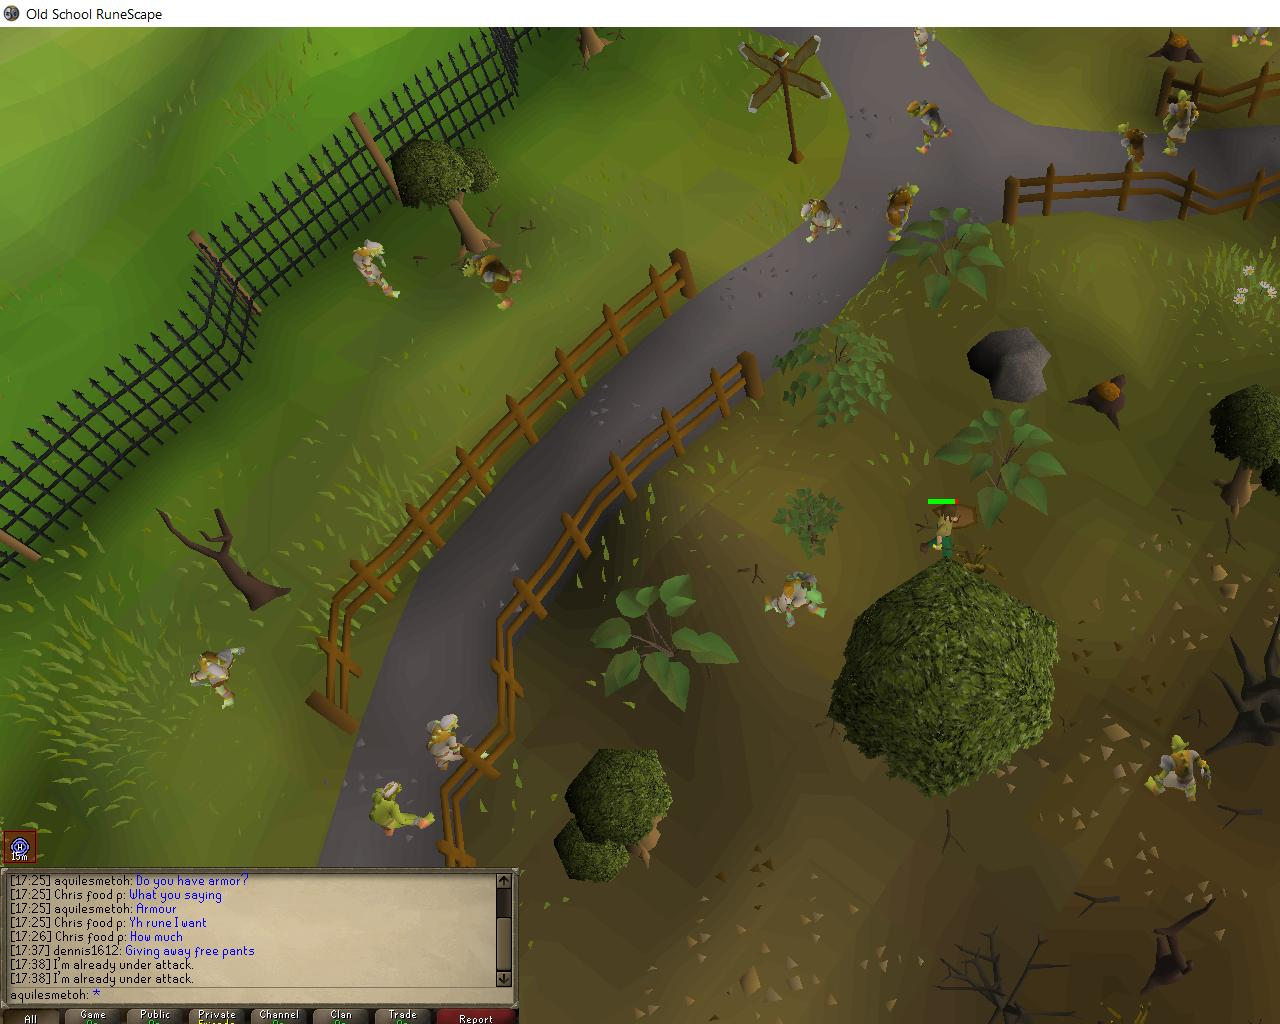Goblin: (1140, 734, 1216, 802), (363, 782, 439, 838), (184, 645, 246, 711), (423, 713, 490, 773), (762, 569, 829, 630), (462, 254, 523, 315), (348, 241, 402, 303), (905, 98, 955, 154), (1164, 91, 1200, 159), (799, 197, 850, 245), (885, 179, 920, 245), (1116, 123, 1148, 172), (911, 28, 939, 69)
